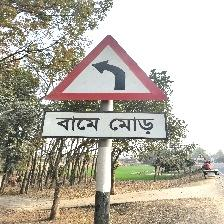Left-Turn: (40, 35, 171, 141)
